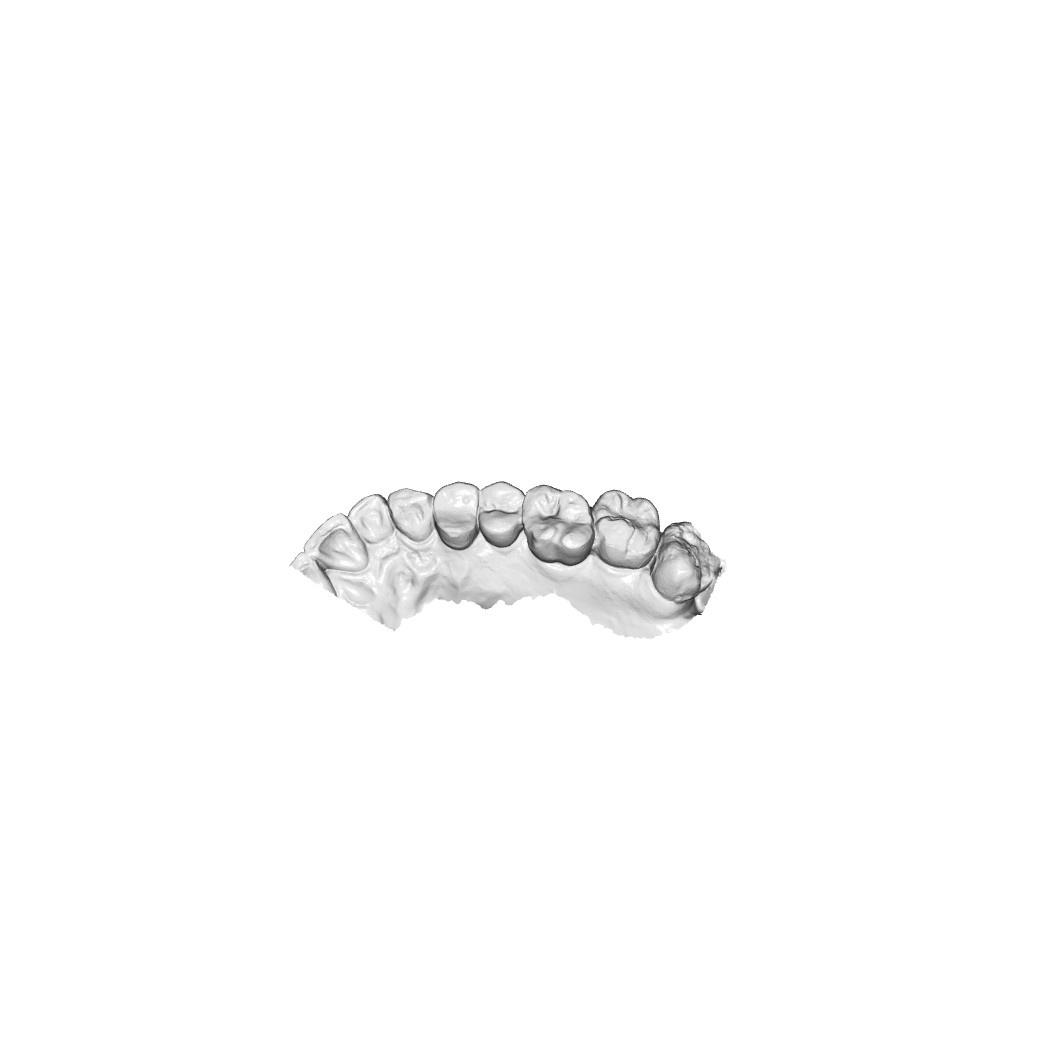canine: (388, 488, 433, 541)
incisor: (309, 516, 364, 570), (351, 496, 397, 541)
molar: (525, 484, 596, 559), (592, 488, 658, 564), (658, 525, 713, 601)
premolar: (479, 484, 524, 549), (436, 484, 479, 547)
